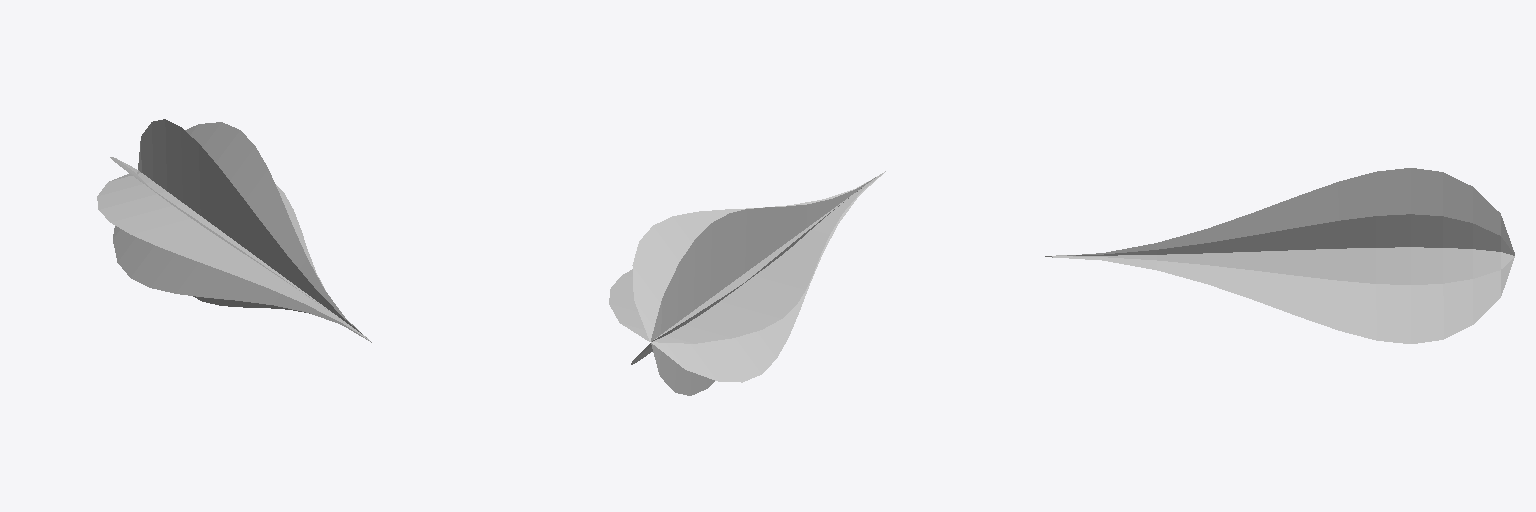
File: Light2.obj
3 views of the same model, side by side, from view 1: azimuth 30°, elevation 25°; view 2: azimuth 150°, elevation 25°; view 3: azimuth 270°, elevation 25° (orthographic).
Visible parts, largest first — view 1: Light2_BezierCurve.003; view 2: Light2_BezierCurve.003; view 3: Light2_BezierCurve.003.
Boxes of the visible parts, x1=… form: Light2_BezierCurve.003: x1=97, y1=119, x2=371, y2=342; Light2_BezierCurve.003: x1=609, y1=171, x2=885, y2=395; Light2_BezierCurve.003: x1=1045, y1=168, x2=1514, y2=343.
Size of the model in its own units: 0.0738 by 0.0738 by 0.1884.